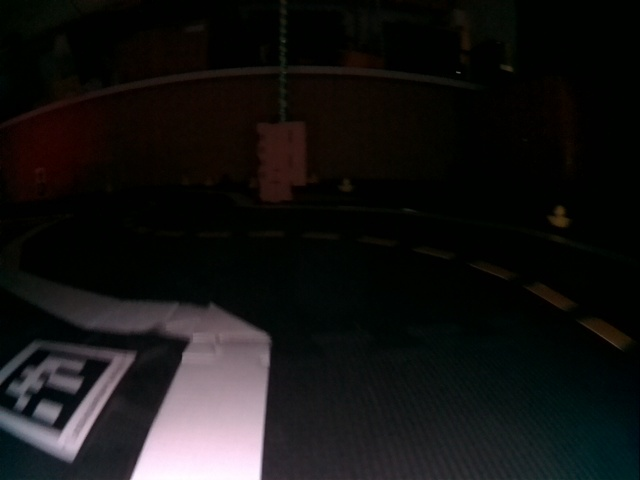Duckie: (551, 206, 567, 227), (341, 180, 348, 189)
QR code: (7, 348, 135, 451)
